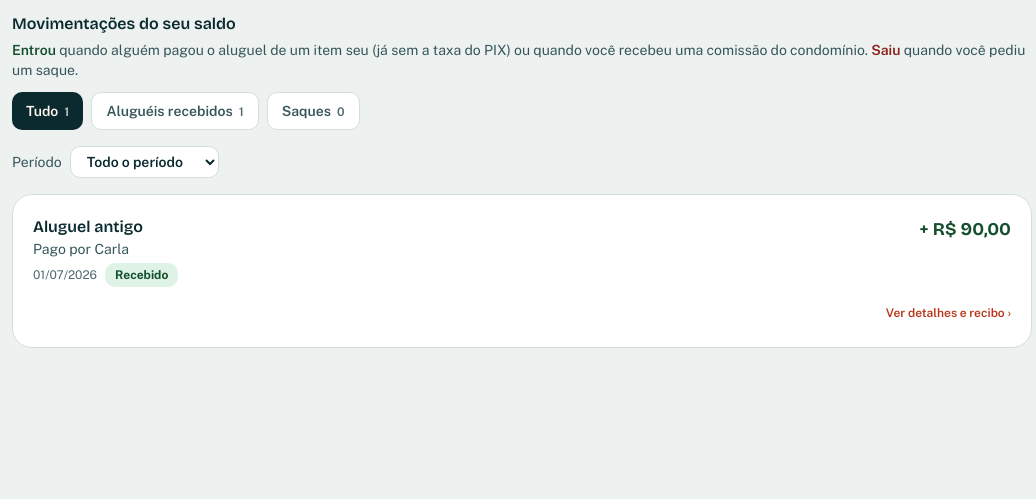
ListaExtrato: filtros › filtra por período, avisa quando não sobra nada e limpa os filtros
The image size is (1036, 499).
Select "Últimos 7 dias" in the dropdown labelled "Período" at [144, 162], box [70,146,219,178]
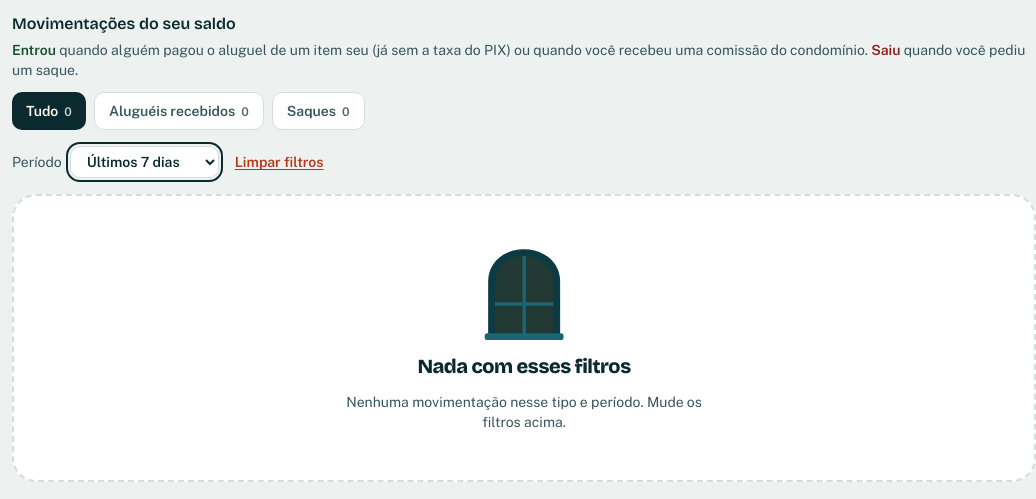
Now the text "Nada com esses filtros" is shown, box [417,352,631,380]
Click the button "Limpar filtros" at [279, 162], box [235,152,324,172]
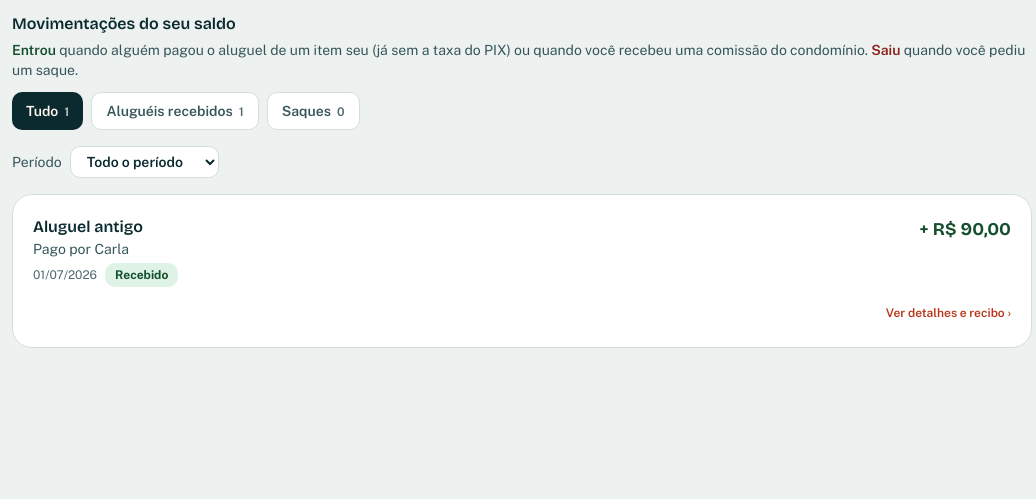
Now the text "Aluguel antigo" is shown, box [33,215,143,239]
Now the button "Limpar filtros" is gone
